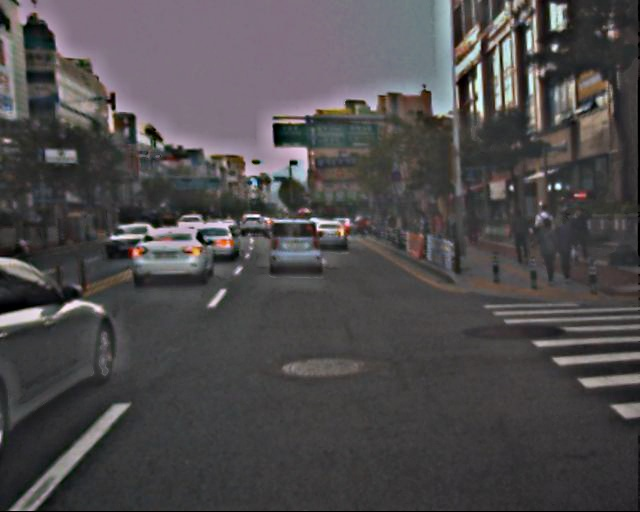person: (414, 214, 464, 250), (533, 219, 560, 285), (551, 219, 577, 282), (534, 203, 559, 264), (566, 203, 591, 263), (507, 213, 530, 270), (465, 212, 479, 247)
